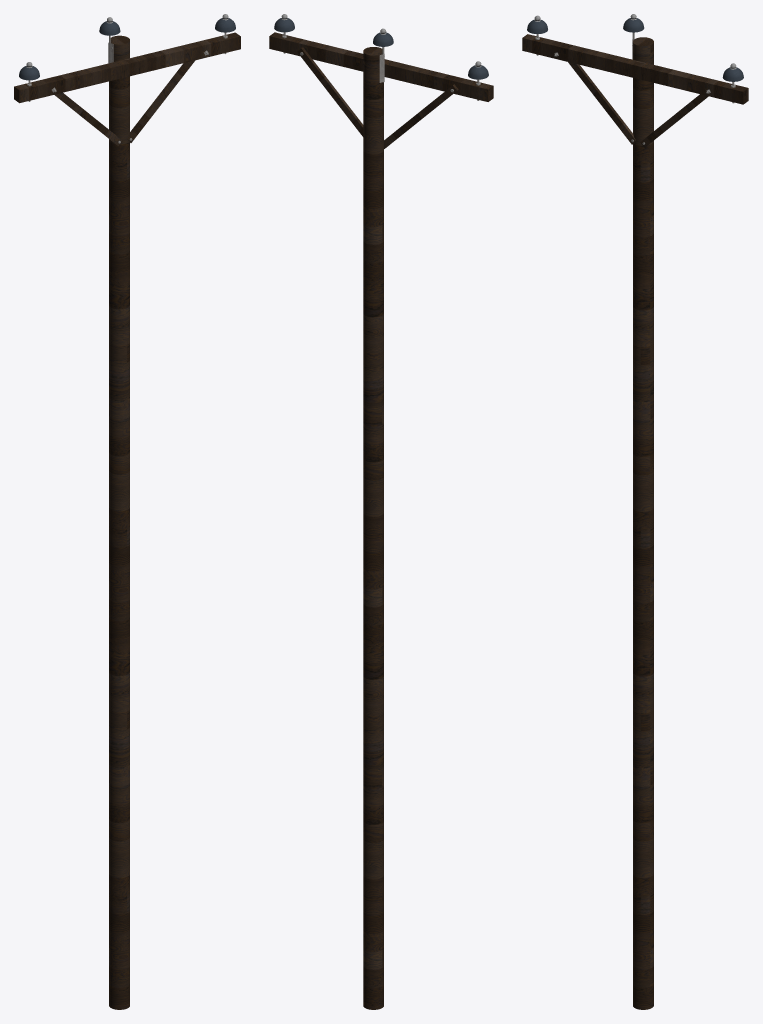
The model's file is TransmissionPole_A.fbx.
The picture shows the model from 3 angles, left to right: view 1: azimuth 30°, elevation 25°; view 2: azimuth 150°, elevation 25°; view 3: azimuth 330°, elevation 25°; orthographic projection.
Visible parts, largest first — view 1: TransmissionPole_A_LOD_0; view 2: TransmissionPole_A_LOD_0; view 3: TransmissionPole_A_LOD_0.
Boxes of the visible parts, left/top/right/bottom form: TransmissionPole_A_LOD_0: left=14, top=14, right=240, bottom=1009; TransmissionPole_A_LOD_0: left=269, top=14, right=493, bottom=1009; TransmissionPole_A_LOD_0: left=522, top=14, right=748, bottom=1009.
Size of what is drawn, in the model's own units: 424 by 1812 by 61.35.
